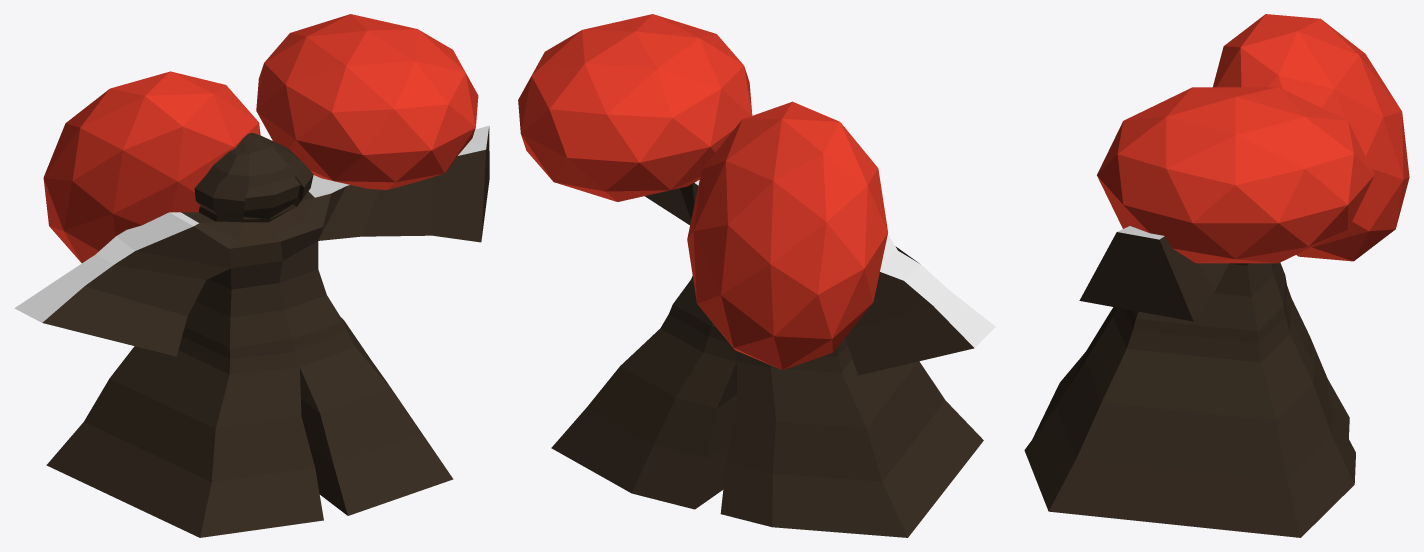
Rendered from myco.glb.
3 renders of one model, left to right at view 1: azimuth 30°, elevation 25°; view 2: azimuth 150°, elevation 25°; view 3: azimuth 270°, elevation 25°, orthographic. The views are drawn at different scales.
Visible parts, largest first — view 1: mage, Icosphere, Icosphere.001; view 2: mage, Icosphere.001, Icosphere; view 3: mage, Icosphere, Icosphere.001.
Part boxes in pixels (<box>): mage: <box>14,125,489,537</box>; Icosphere: <box>256,14,478,189</box>; Icosphere.001: <box>43,71,260,262</box>; mage: <box>551,180,995,537</box>; Icosphere.001: <box>687,101,887,370</box>; Icosphere: <box>518,14,752,201</box>; mage: <box>1024,226,1355,537</box>; Icosphere: <box>1097,87,1374,263</box>; Icosphere.001: <box>1213,14,1409,261</box>.
Size of the model in its own units: 3.29 by 2.76 by 2.31.
